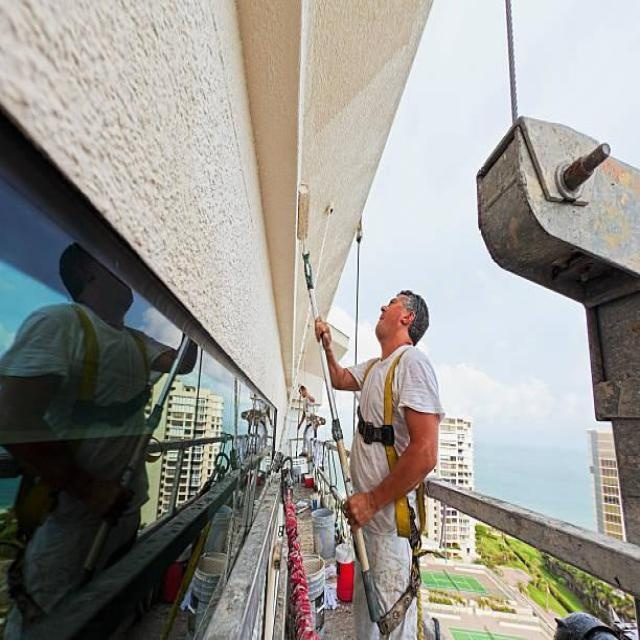Arnes_seguridad: (346, 349, 432, 538)
